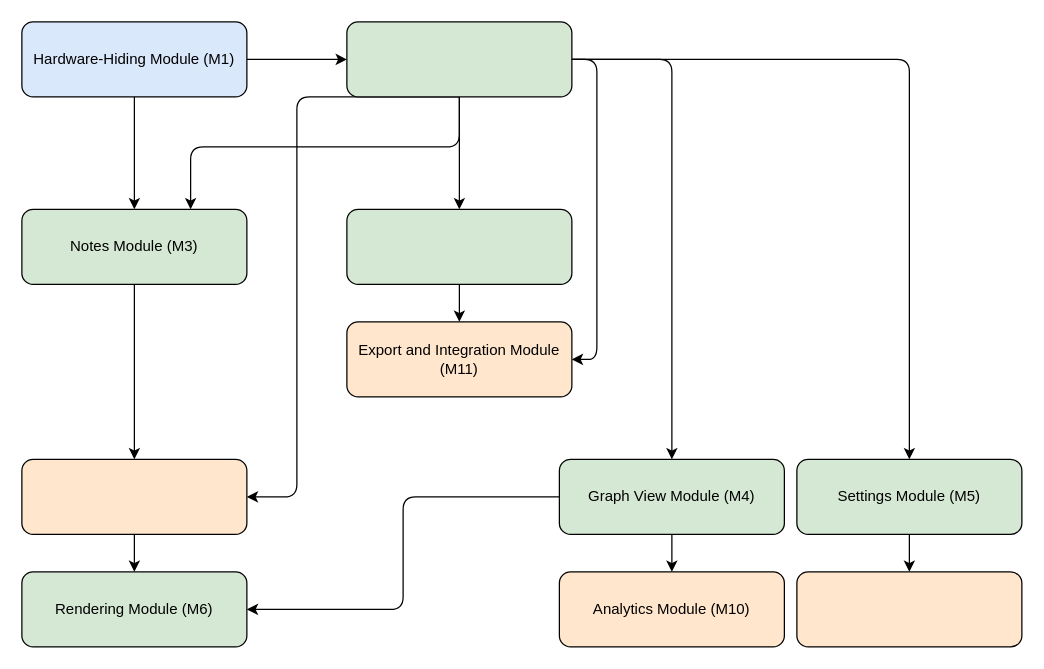
Image size: 1044x669. Some labels were removed from this diagram. The shapes that lost their labels are listed below. From the top down, each one's centre as x and y in pixels, then its label:
At point 459,59: "Editor Module (M2)".
At point 459,246: "Data Fetching and State Management Module (M7)".
At point 134,496: "Inference Module (M8)".
At point 909,609: "User Configuration Module (M9)".
